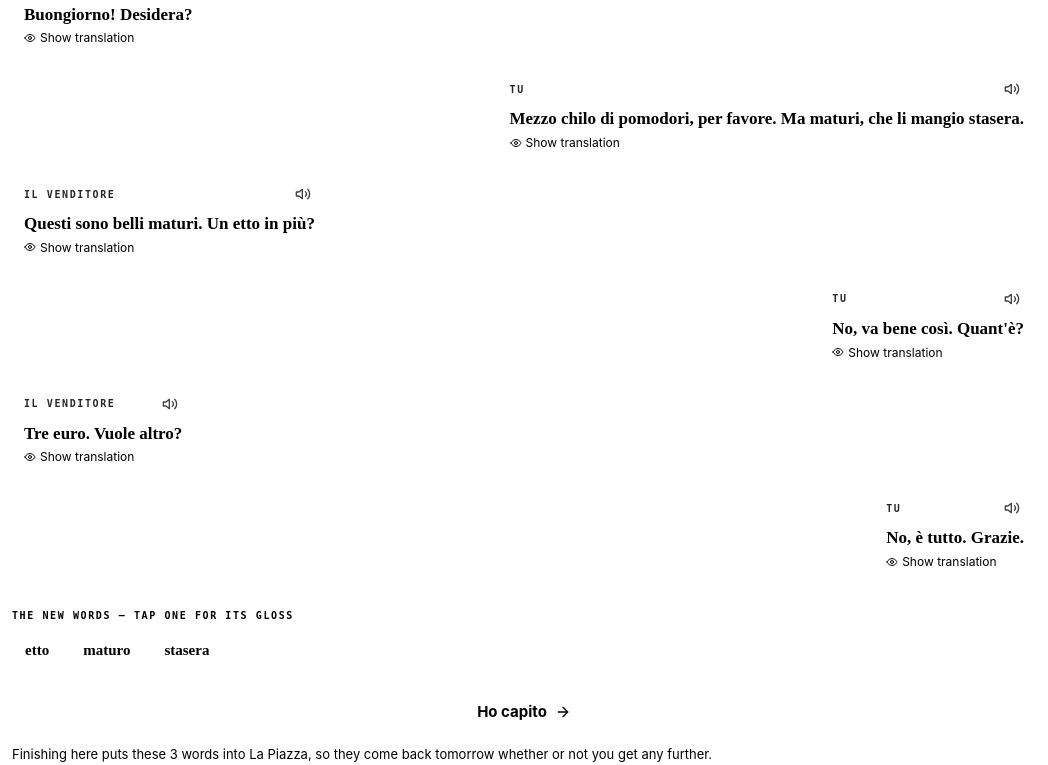
Test: the new words › opens a gloss with English, Polish and the note
(page scrolled)
Click the button "maturo": (107, 650) [70, 633, 143, 667]
(page scrolled)
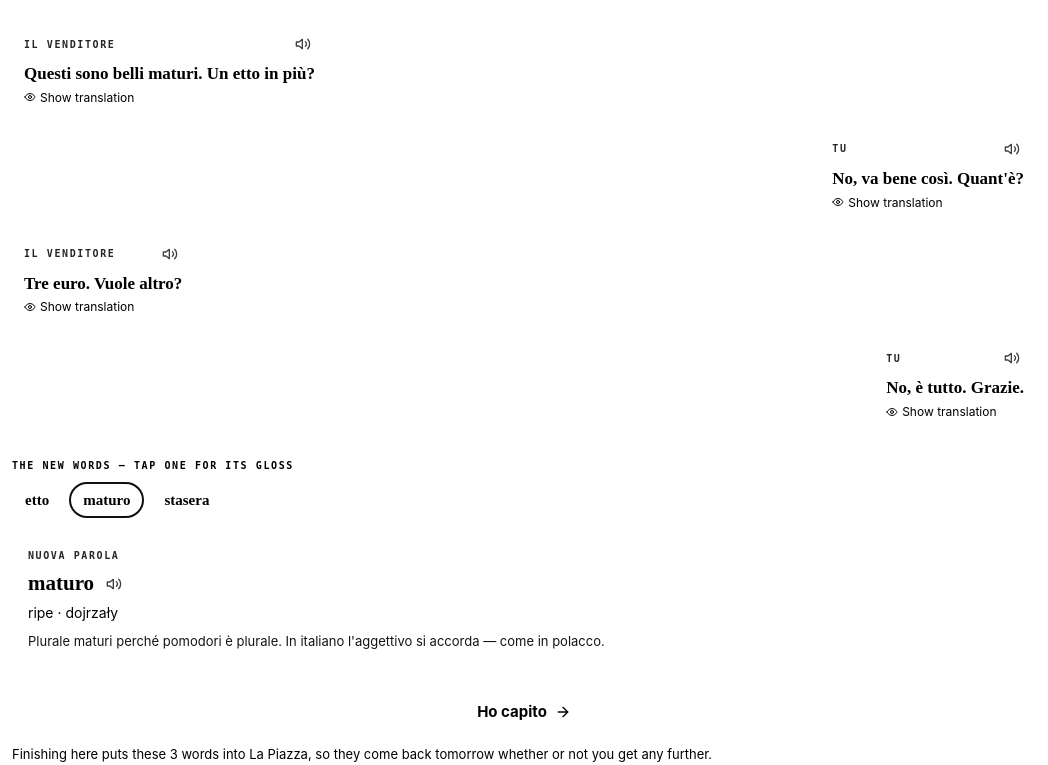
Now the button "maturo" is expanded, box [70, 483, 143, 517]
Now the text "ripe · dojrzały" is shown, box [28, 604, 118, 621]
Now the text "dojrzały" is shown, box [66, 604, 118, 621]
